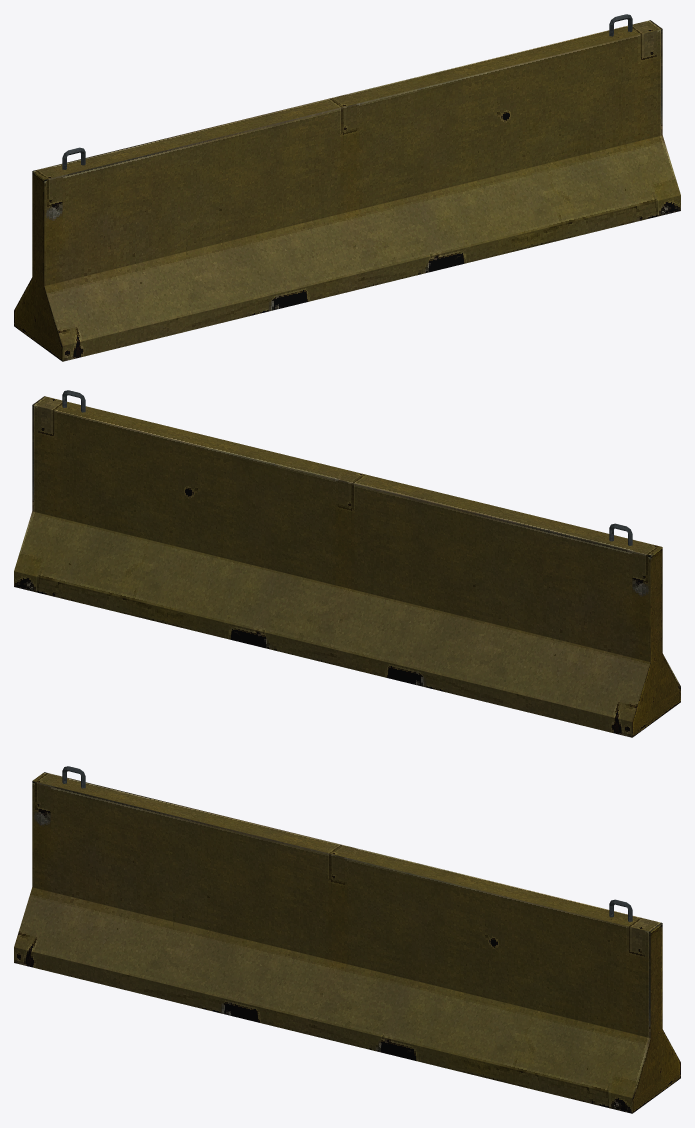
File: barricade_a_1.glb
3 renders of one model, top to bottom at view 1: azimuth 30°, elevation 25°; view 2: azimuth 150°, elevation 25°; view 3: azimuth 330°, elevation 25°, orthographic.
Parts seen in each view (by area): view 1: barricade_a_1; view 2: barricade_a_1; view 3: barricade_a_1.
Boxes of the visible parts, box(x1,y1,x2,y2) form: barricade_a_1: box(14, 14, 680, 361); barricade_a_1: box(14, 390, 680, 737); barricade_a_1: box(14, 766, 680, 1113).
Size of the model in its own units: 2.94 by 0.8466 by 0.4.
Materials: 1 (1 with a texture image).
